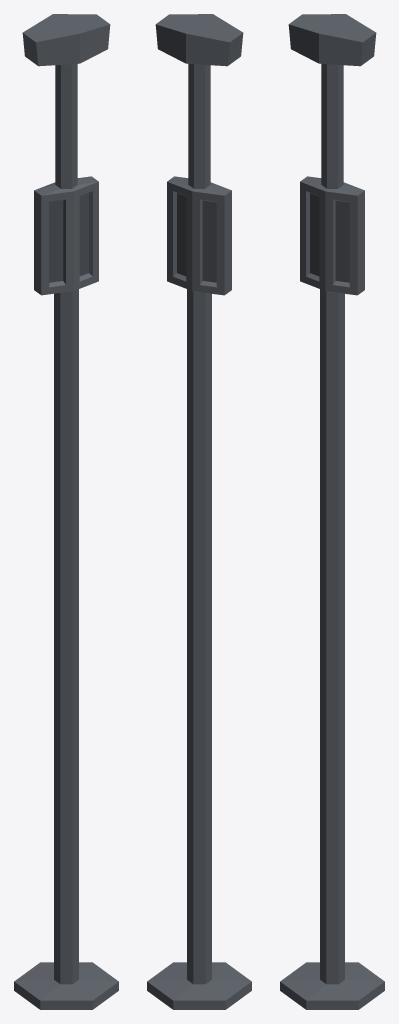
File: SM_Prop_TentPole_01.fbx
The picture shows the model from 3 angles, left to right: view 1: azimuth 30°, elevation 25°; view 2: azimuth 150°, elevation 25°; view 3: azimuth 330°, elevation 25°; orthographic projection.
Visible parts, largest first — view 1: SM_Prop_TentPole_01; view 2: SM_Prop_TentPole_01; view 3: SM_Prop_TentPole_01.
Part boxes in pixels (bbox=[...]): SM_Prop_TentPole_01: bbox=[14, 14, 118, 1009]; SM_Prop_TentPole_01: bbox=[147, 14, 251, 1009]; SM_Prop_TentPole_01: bbox=[280, 14, 384, 1009].
Bounding box in the file's own units: 28.09 × 330 × 32.43.
